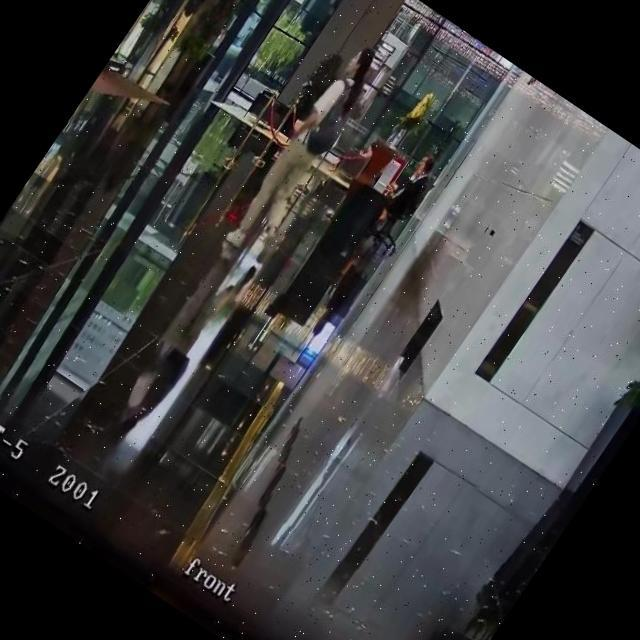person: (214, 33, 393, 265), (366, 147, 446, 246), (111, 0, 169, 59), (358, 139, 379, 161)
